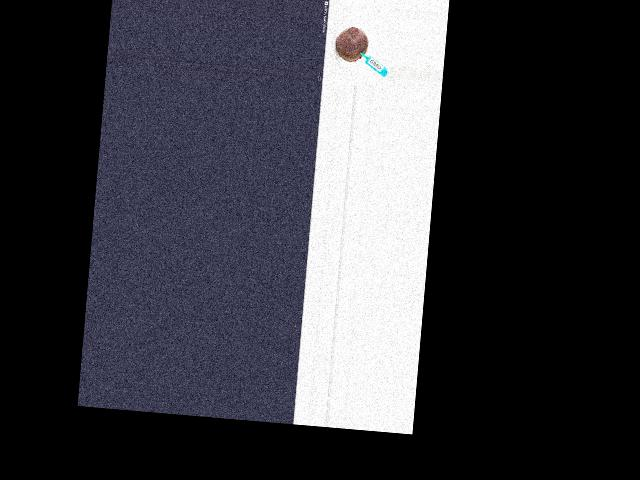beet: (333, 25, 369, 63)
